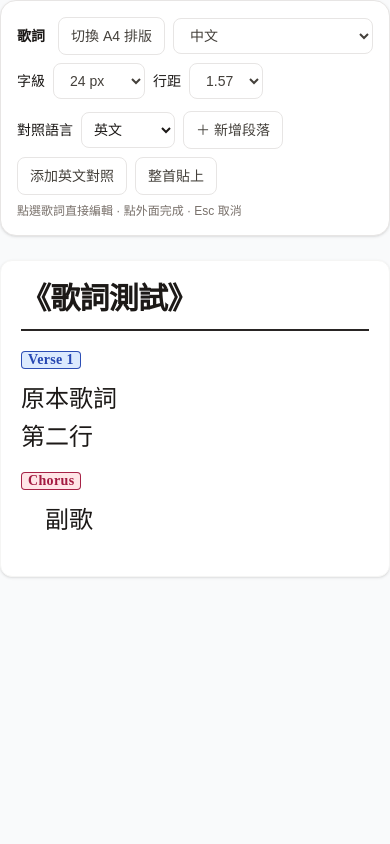
Test case: lyrics in-place editing › preserves Chinese composition and lets Escape cancel after composition finishes
The image size is (390, 844).
Click the button with aria-label "中文歌詞 Verse 1" at point(69, 399), box left=21, top=381, right=369, bottom=456
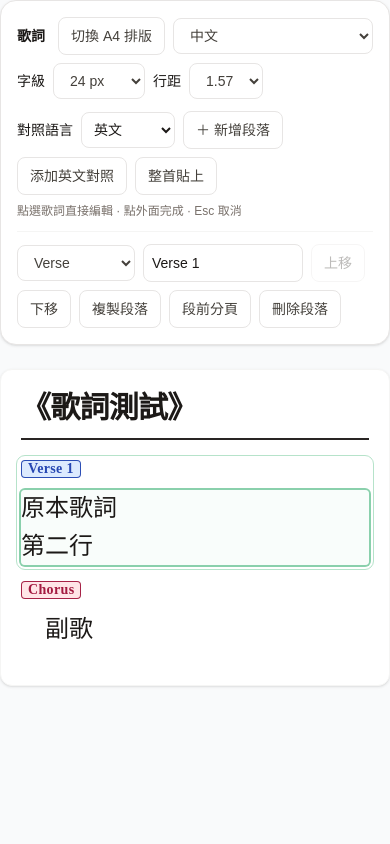
Replace the text in the text box named "中文歌詞 Verse 1" with "中文輸入" at point(195, 528), box left=21, top=490, right=369, bottom=565
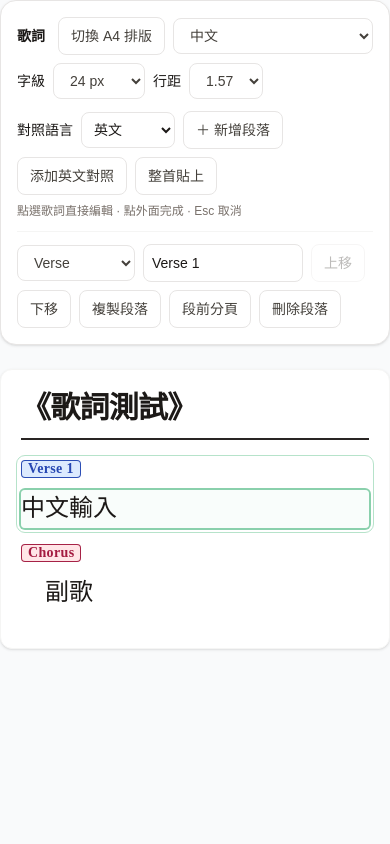
Press Escape in the text box named "中文歌詞 Verse 1", box left=21, top=490, right=369, bottom=528
Press Escape in the text box named "中文歌詞 Verse 1", box left=21, top=490, right=369, bottom=528
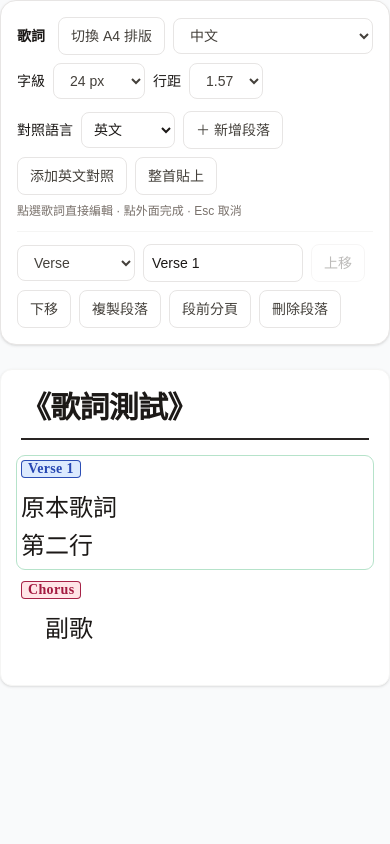
Now the button with aria-label "中文歌詞 Verse 1" shows "原本歌詞", box left=21, top=490, right=369, bottom=565
